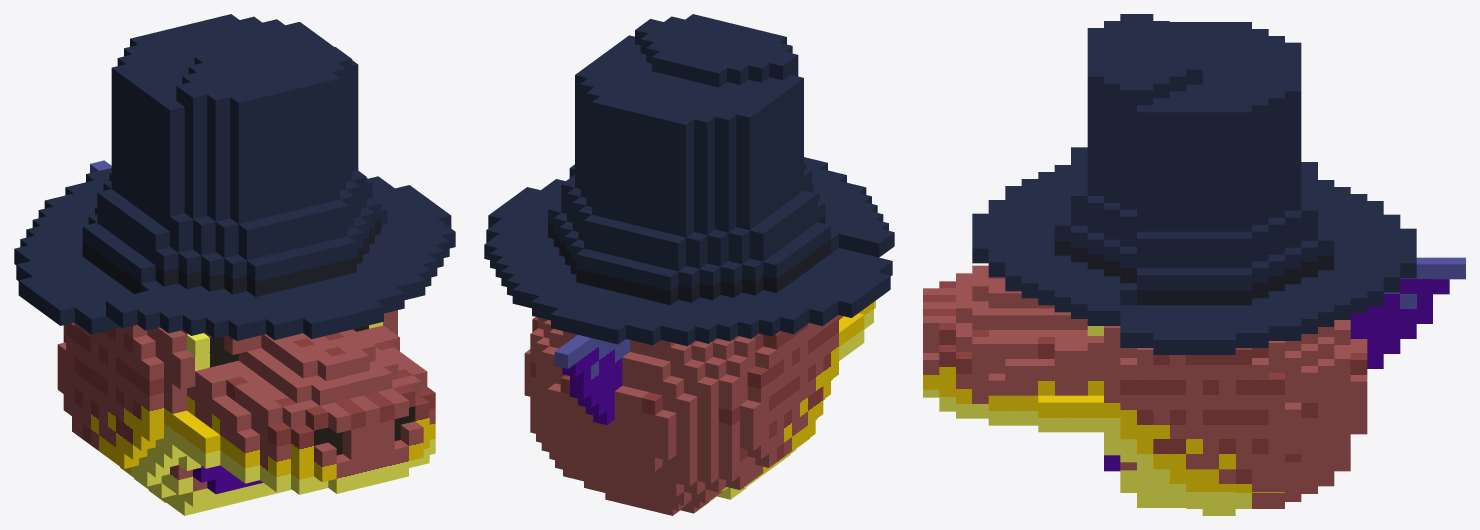
The model's file is top hat_3d glasses.gltf.
3 views of the same model, side by side, from view 1: azimuth 30°, elevation 25°; view 2: azimuth 150°, elevation 25°; view 3: azimuth 270°, elevation 25° (orthographic). The views are drawn at different scales.
Visible parts, largest first — view 1: C53_H_TopH_CoolD_3D_RBShade-Mesh; view 2: C53_H_TopH_CoolD_3D_RBShade-Mesh; view 3: C53_H_TopH_CoolD_3D_RBShade-Mesh.
Boxes of the visible parts, left/top/right/bottom form: C53_H_TopH_CoolD_3D_RBShade-Mesh: left=14, top=14, right=455, bottom=515; C53_H_TopH_CoolD_3D_RBShade-Mesh: left=484, top=14, right=894, bottom=515; C53_H_TopH_CoolD_3D_RBShade-Mesh: left=923, top=14, right=1465, bottom=515.
Size of the model in its own units: 27 by 29 by 33.
Materials: 1 (1 with a texture image).
